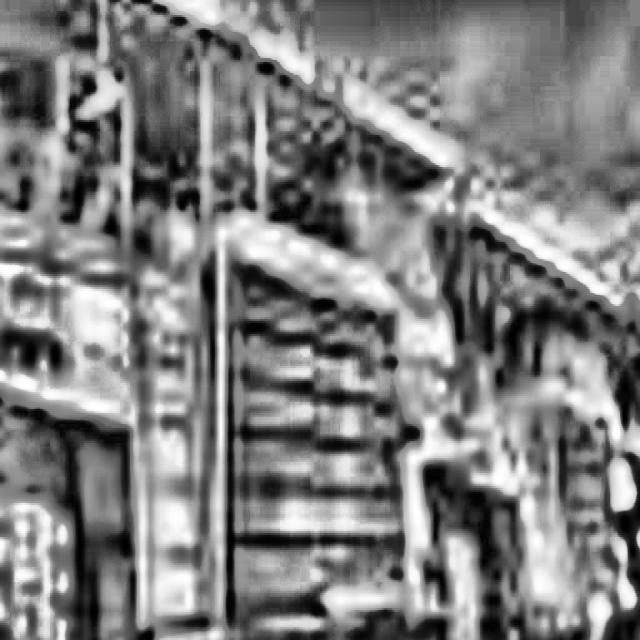dump_truck: (0, 0, 465, 640), (427, 202, 631, 640)
